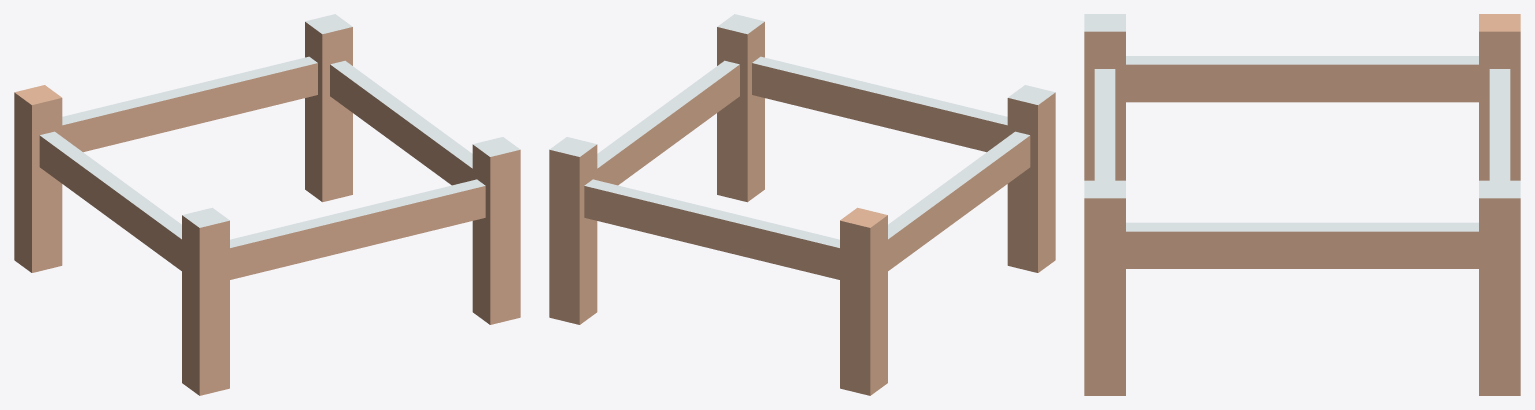
Rendered from snow_woodStructure.glb.
3 views of the same model, side by side, from view 1: azimuth 30°, elevation 25°; view 2: azimuth 150°, elevation 25°; view 3: azimuth 270°, elevation 25° (orthographic). The views are drawn at different scales.
Visible parts, largest first — view 1: snow_woodStructure; view 2: snow_woodStructure; view 3: snow_woodStructure.
Part boxes in pixels (x1,y1,x2,y2): snow_woodStructure: (14,14,520,395); snow_woodStructure: (549,14,1055,395); snow_woodStructure: (1084,14,1520,395).
Size of the model in its own units: 1 by 0.5 by 1.
